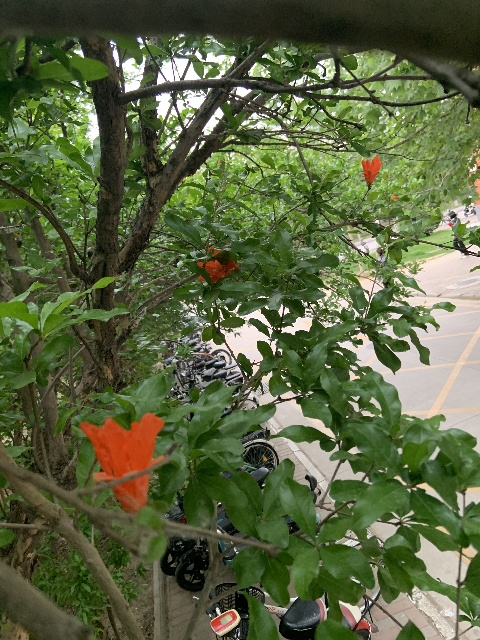flower: (79, 413, 166, 514), (195, 241, 240, 282), (361, 155, 384, 185)
